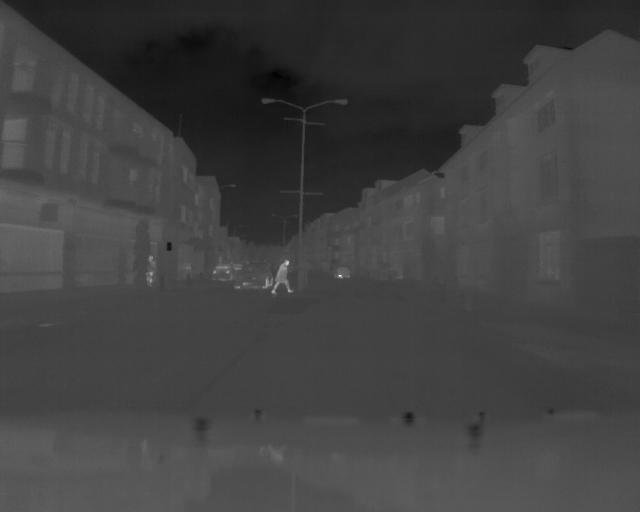car: (236, 263, 272, 291), (211, 262, 234, 284), (333, 265, 351, 282)
person: (273, 254, 295, 299), (142, 251, 158, 288)
